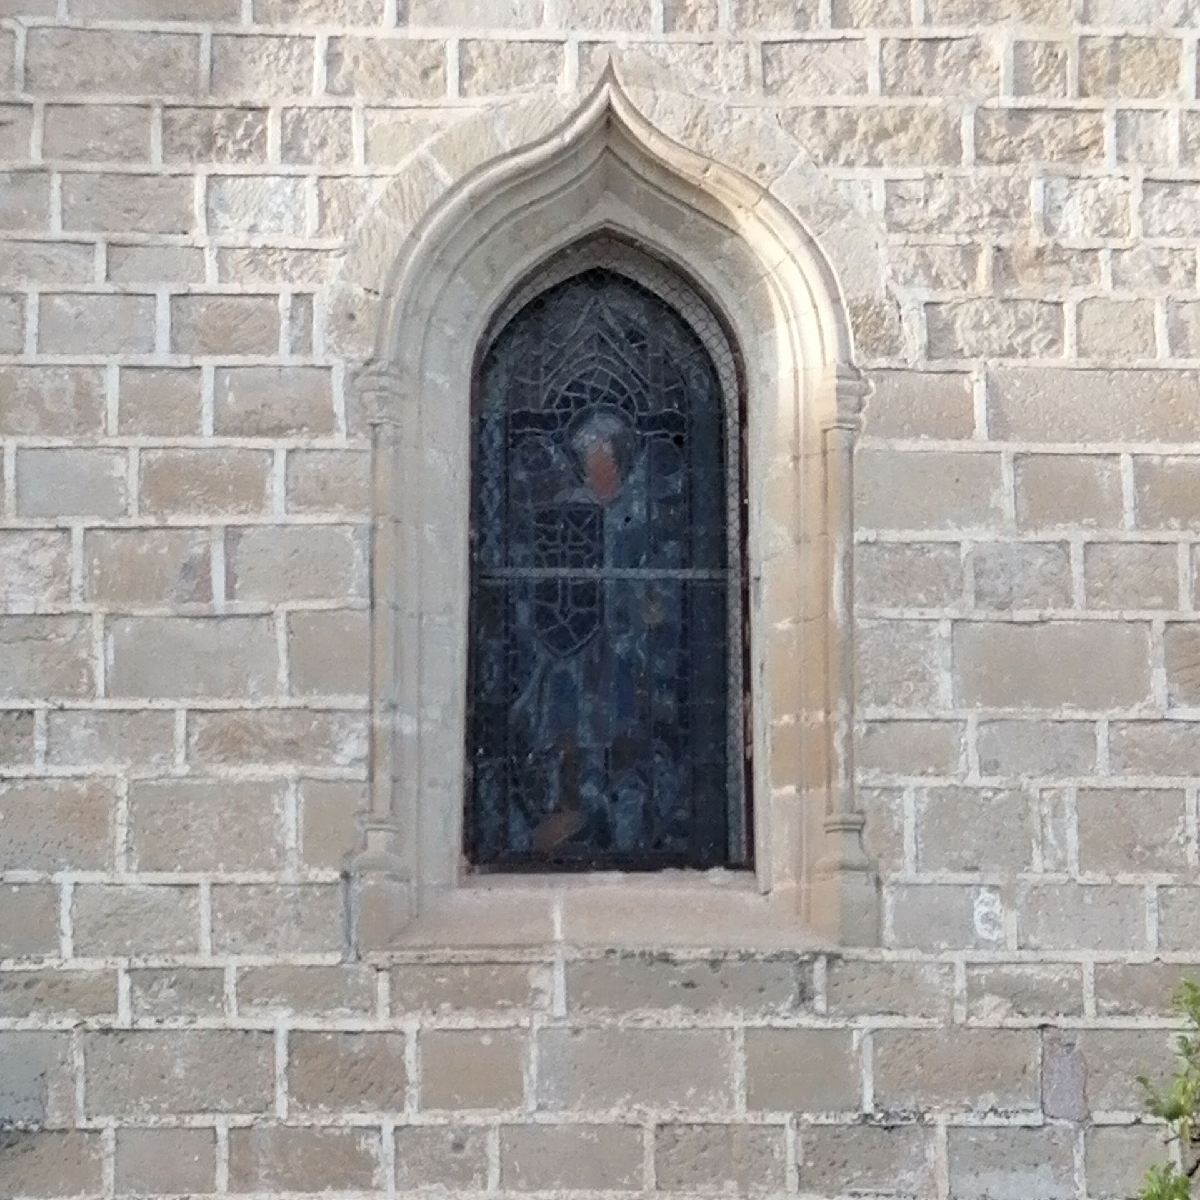arco-apuntado: (451, 220, 766, 427)
arco-conopial: (422, 48, 813, 274)
